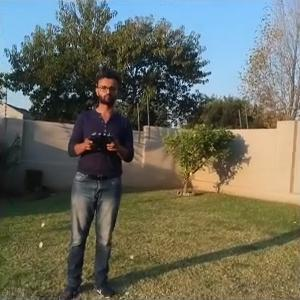follow: (54, 68, 136, 298)
